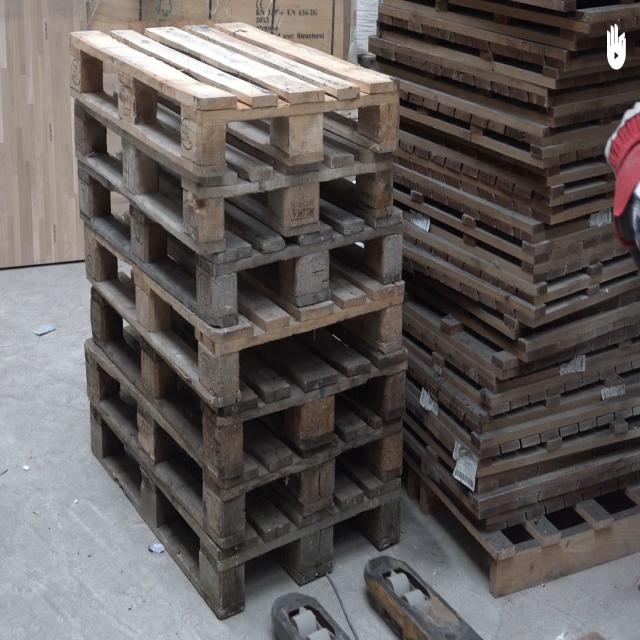Palette: (66, 25, 406, 621), (411, 450, 640, 600)
